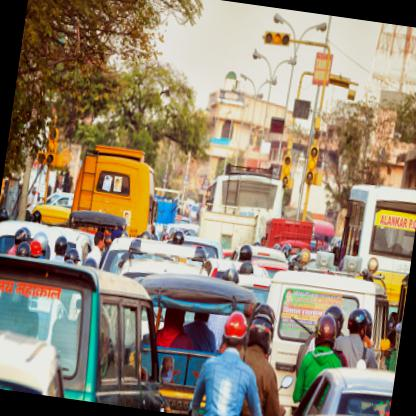bus: (331, 181, 415, 312), (70, 142, 160, 236), (196, 162, 284, 252)
car: (0, 256, 193, 413), (249, 263, 399, 415)
